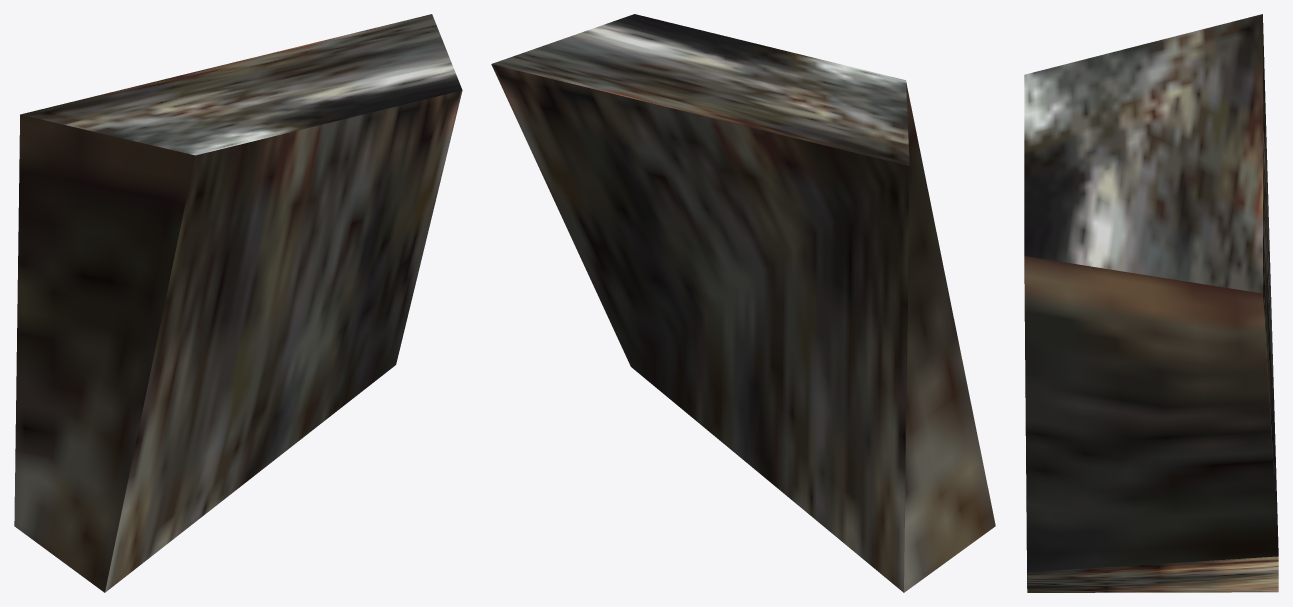
File: USA - Base Infrastructure - Power Plant - Damage State 25 - ABPWRPLANT_d25.glb
The picture shows the model from 3 angles, left to right: view 1: azimuth 30°, elevation 25°; view 2: azimuth 150°, elevation 25°; view 3: azimuth 270°, elevation 25°; orthographic projection. The views are drawn at different scales.
Visible parts, largest first — view 1: ABPWRPLANT_D25; view 2: ABPWRPLANT_D25; view 3: ABPWRPLANT_D25.
Part boxes in pixels (box(x1,y1,x2,y2)): ABPWRPLANT_D25: box(14, 14, 462, 592); ABPWRPLANT_D25: box(491, 14, 995, 592); ABPWRPLANT_D25: box(1024, 14, 1278, 592).
Size of the model in its own units: 9.14 by 8.83 by 3.52.
Materials: 1 (1 with a texture image).
